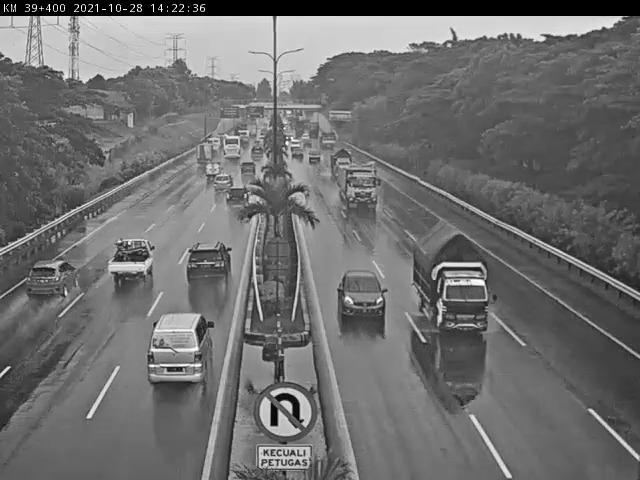big truck: (340, 163, 381, 210)
car: (403, 224, 507, 331), (141, 312, 226, 388), (333, 267, 389, 327), (20, 255, 85, 306), (180, 237, 235, 291), (106, 235, 157, 290), (223, 183, 249, 205), (234, 156, 258, 177), (212, 173, 235, 192)
small truck: (194, 138, 216, 163), (201, 161, 221, 178)
